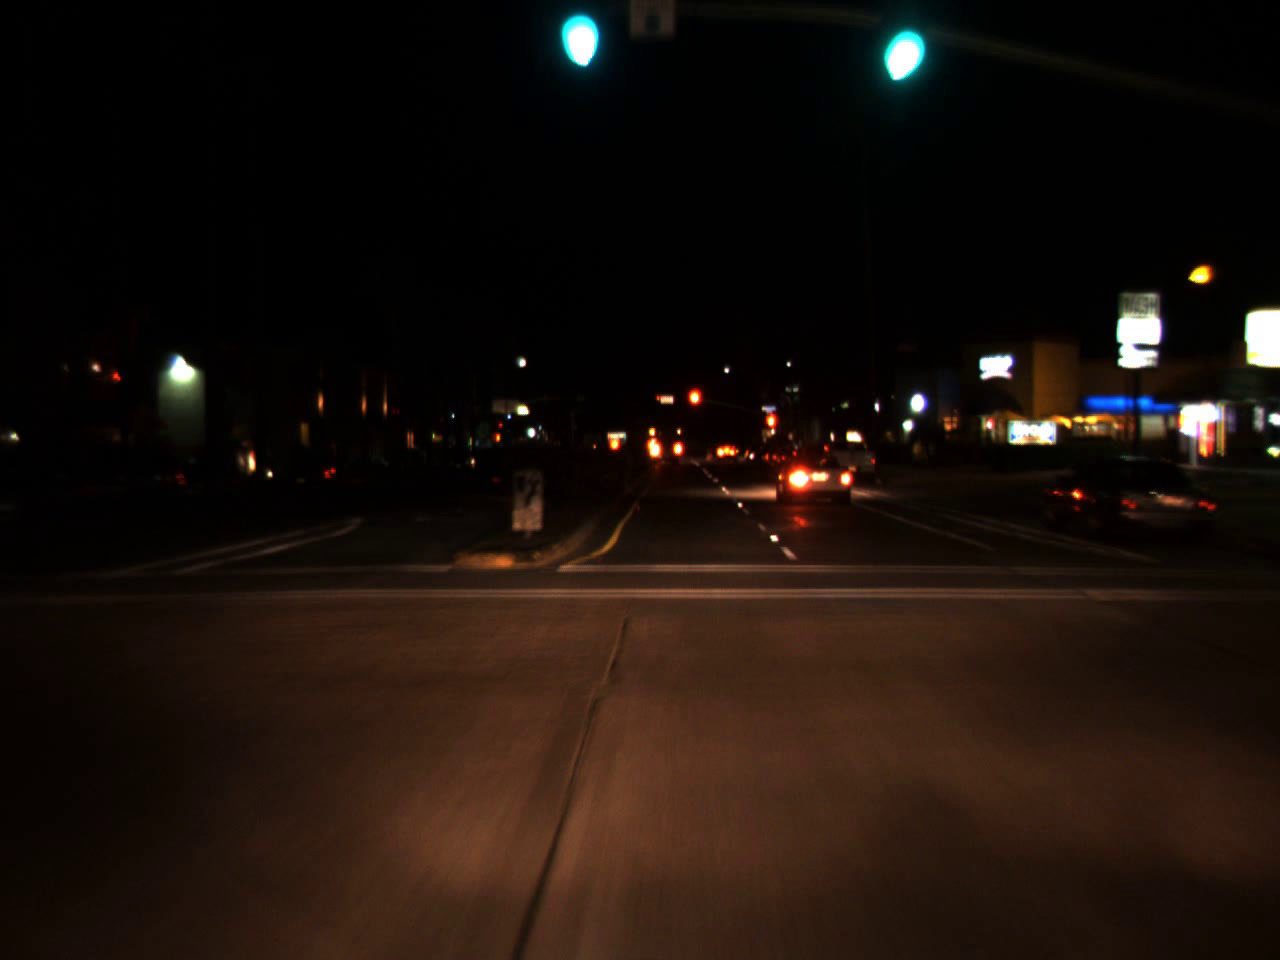go: (876, 8, 919, 89), (556, 0, 602, 63)
stop: (686, 386, 704, 423), (763, 410, 778, 447), (655, 394, 661, 404)
